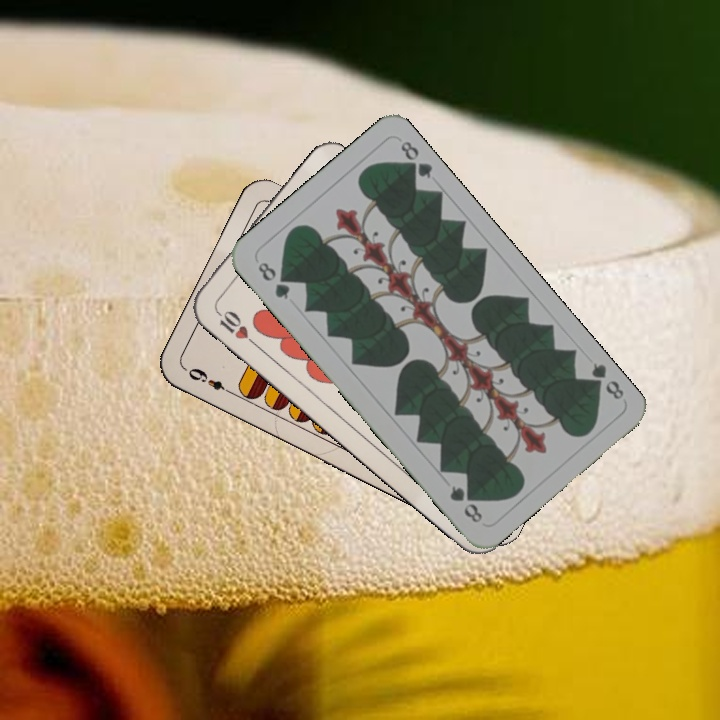E9: (184, 364, 236, 398)
G8: (583, 358, 627, 403), (253, 257, 293, 303)
H10: (210, 303, 259, 348)
